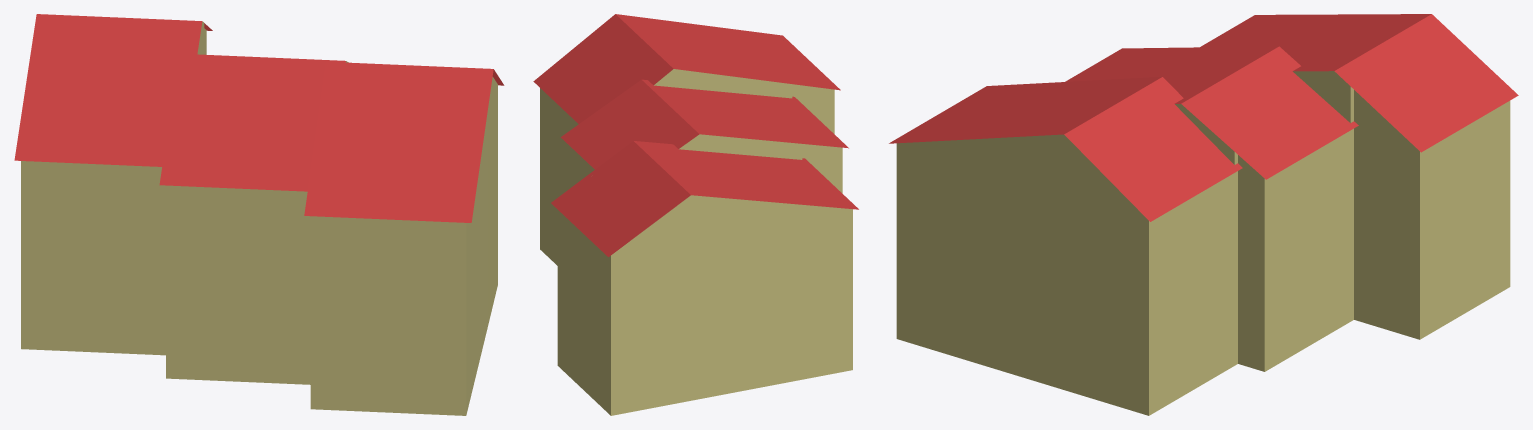
3 views of the same model, side by side, from view 1: azimuth 30°, elevation 25°; view 2: azimuth 150°, elevation 25°; view 3: azimuth 270°, elevation 25° (orthographic). The views are drawn at different scales.
Bounding box in the file's own units: 20.92 × 26.08 × 11.81.
